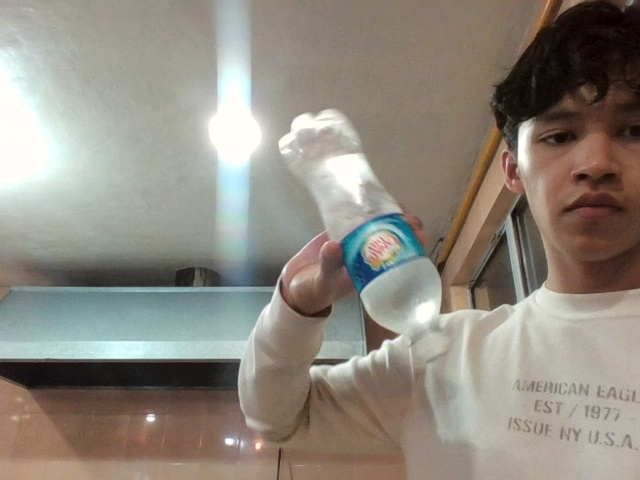botella: (249, 60, 513, 414)
